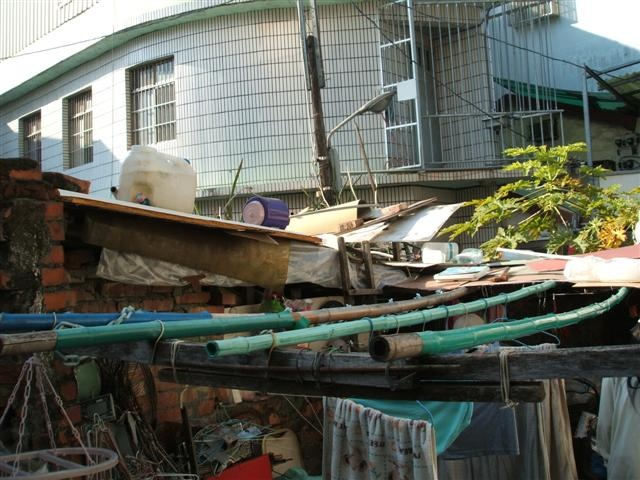bucket: (117, 144, 197, 215)
